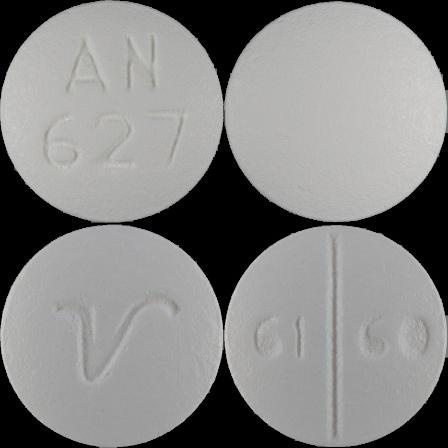67046-730: (0, 0, 224, 224)
